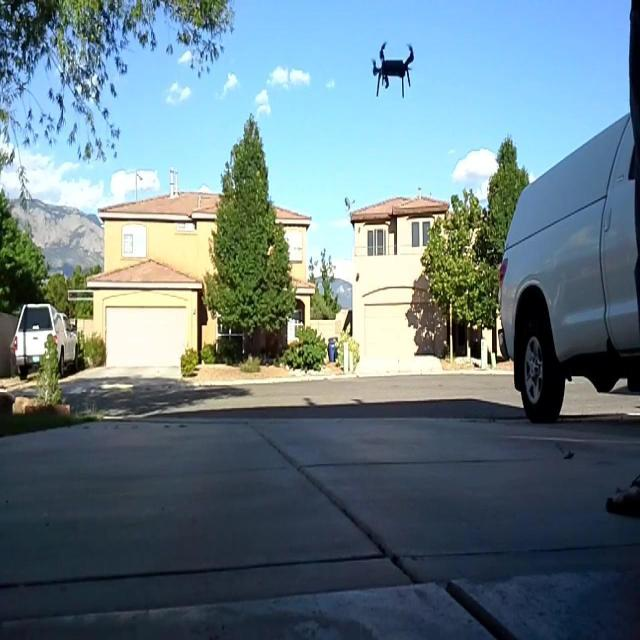drone: (370, 37, 414, 107)
